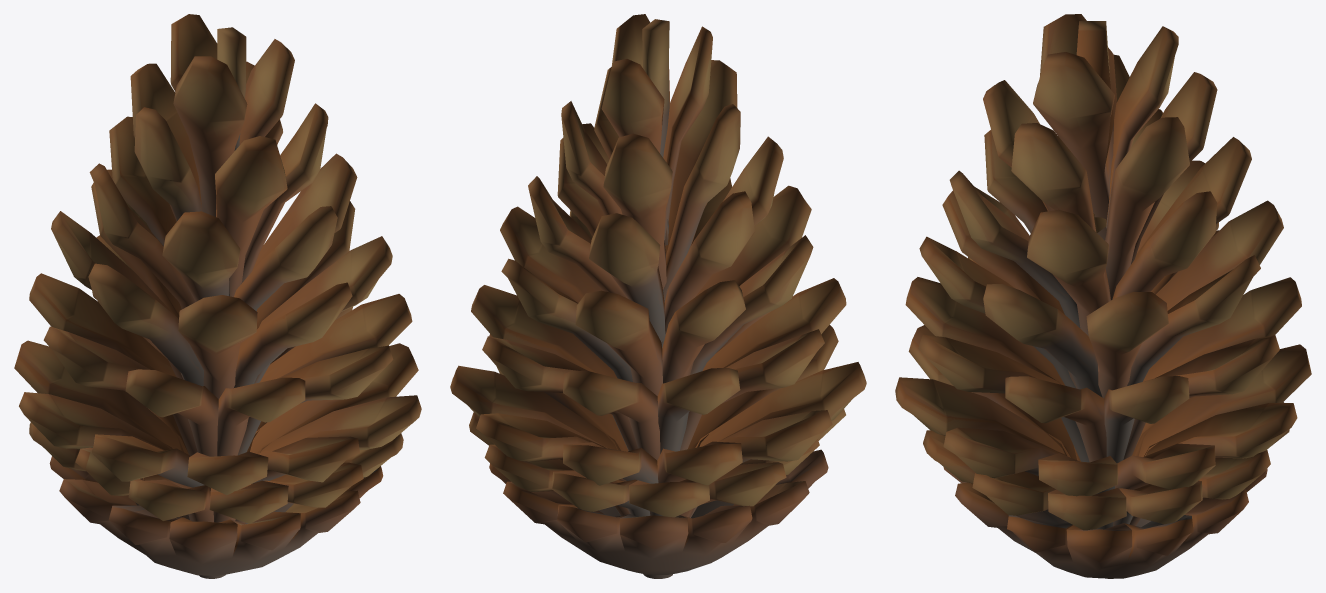
Rendered from Pinecone.fbx.
The picture shows the model from 3 angles, left to right: view 1: azimuth 30°, elevation 25°; view 2: azimuth 150°, elevation 25°; view 3: azimuth 270°, elevation 25°; orthographic projection. The views are drawn at different scales.
Parts seen in each view (by area): view 1: 12170_Wreath_l1.001; view 2: 12170_Wreath_l1.001; view 3: 12170_Wreath_l1.001.
Part boxes in pixels (bbox=[...]): 12170_Wreath_l1.001: bbox=[14, 14, 421, 578]; 12170_Wreath_l1.001: bbox=[450, 14, 866, 578]; 12170_Wreath_l1.001: bbox=[895, 14, 1311, 578].
Bounding box in the file's own units: 567 × 824 × 559.
Materials: 1 (1 with a texture image).
